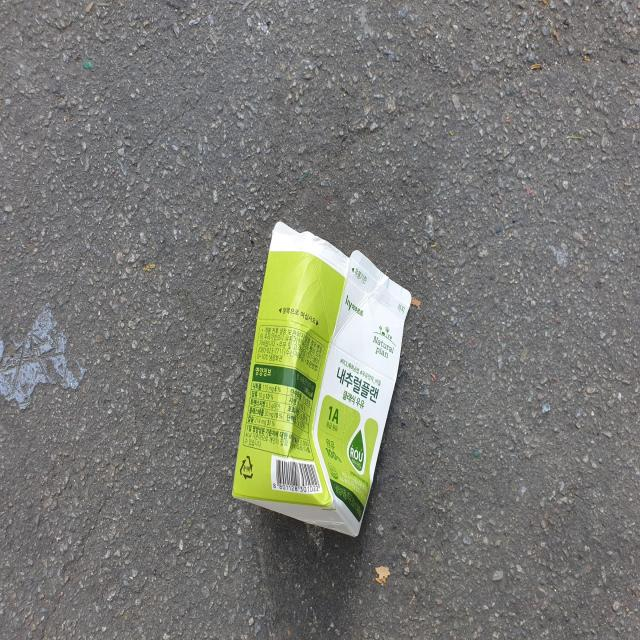paperpack: (233, 221, 411, 537)
